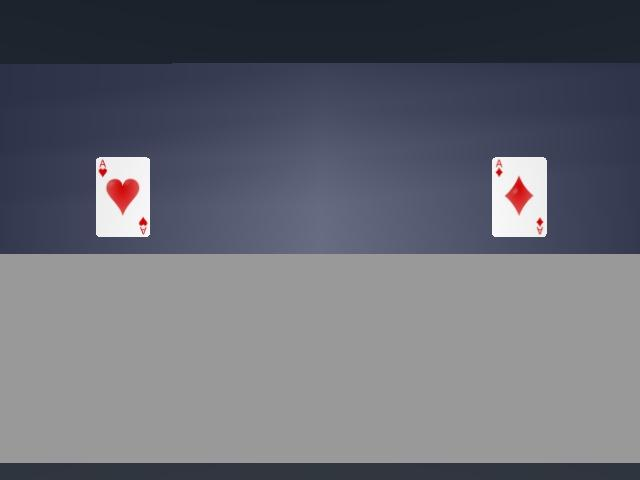diamond: (492, 157, 547, 236)
heart: (95, 157, 149, 236)
